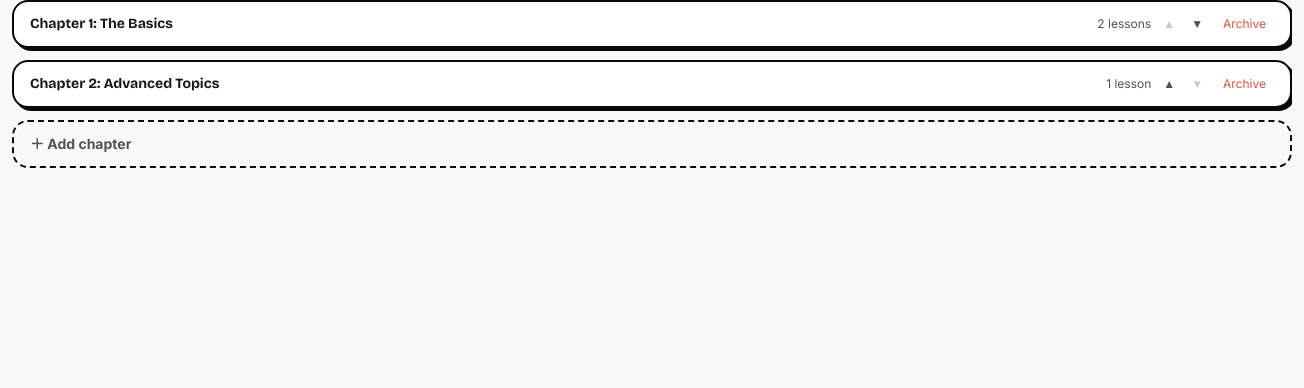
ChapterList › clicking a chapter expands it and shows its assigned lessons
What coordinates should you click on to do the following:
click the button with aria-label "expand chapter 1: the basics"
I would click on:
 (102, 24)
Its box is 30,14 -> 1089,34.
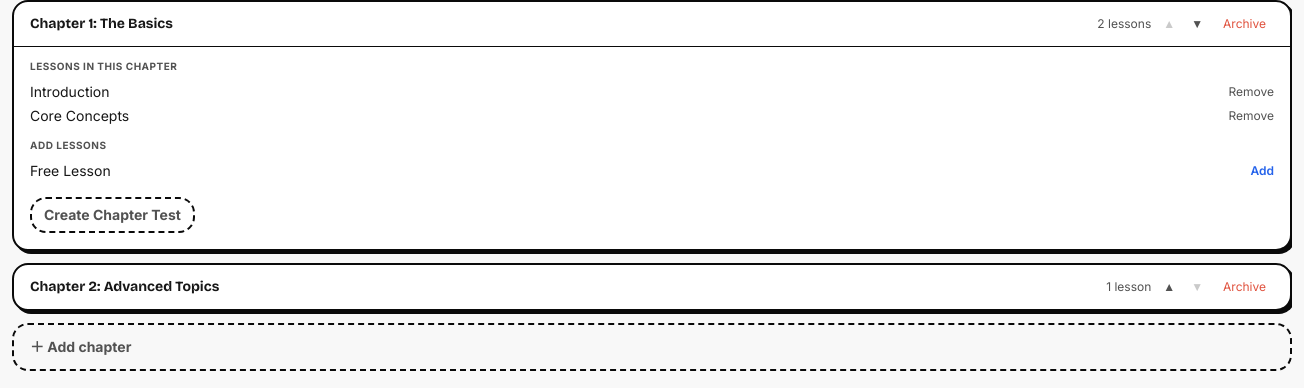
Expected: the text "Introduction" is shown, 30,82 -> 110,102
Expected: the text "Core Concepts" is shown, 30,106 -> 129,126
